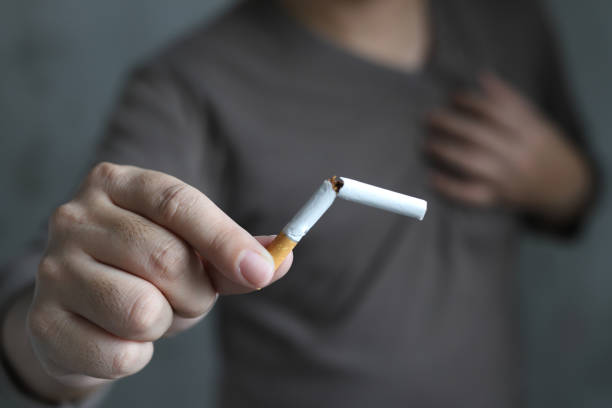cigarette: (265, 171, 338, 267), (333, 175, 429, 223)
